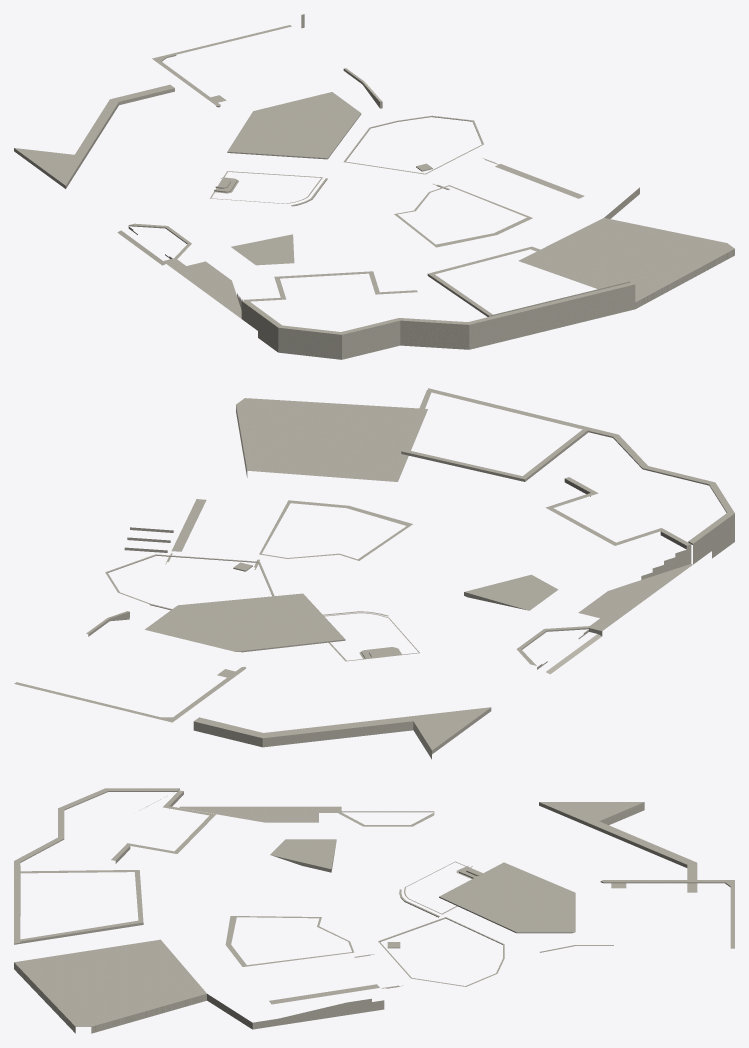
File: kd_stage_135fe0_5_16_bounded.glb
The picture shows the model from 3 angles, top to bottom: view 1: azimuth 30°, elevation 25°; view 2: azimuth 150°, elevation 25°; view 3: azimuth 270°, elevation 25°; orthographic projection. The views are drawn at different scales.
Parts seen in each view (by area): view 1: kd_stage_135fe0_5_16_bounded; view 2: kd_stage_135fe0_5_16_bounded; view 3: kd_stage_135fe0_5_16_bounded.
Part boxes in pixels (box(x1,y1,x2,y2)): kd_stage_135fe0_5_16_bounded: box(14, 14, 734, 359); kd_stage_135fe0_5_16_bounded: box(14, 388, 734, 759); kd_stage_135fe0_5_16_bounded: box(14, 788, 734, 1033).
Bounding box in the file's own units: 20.39 × 2 × 28.22.
Materials: 1 (1 with a texture image).
